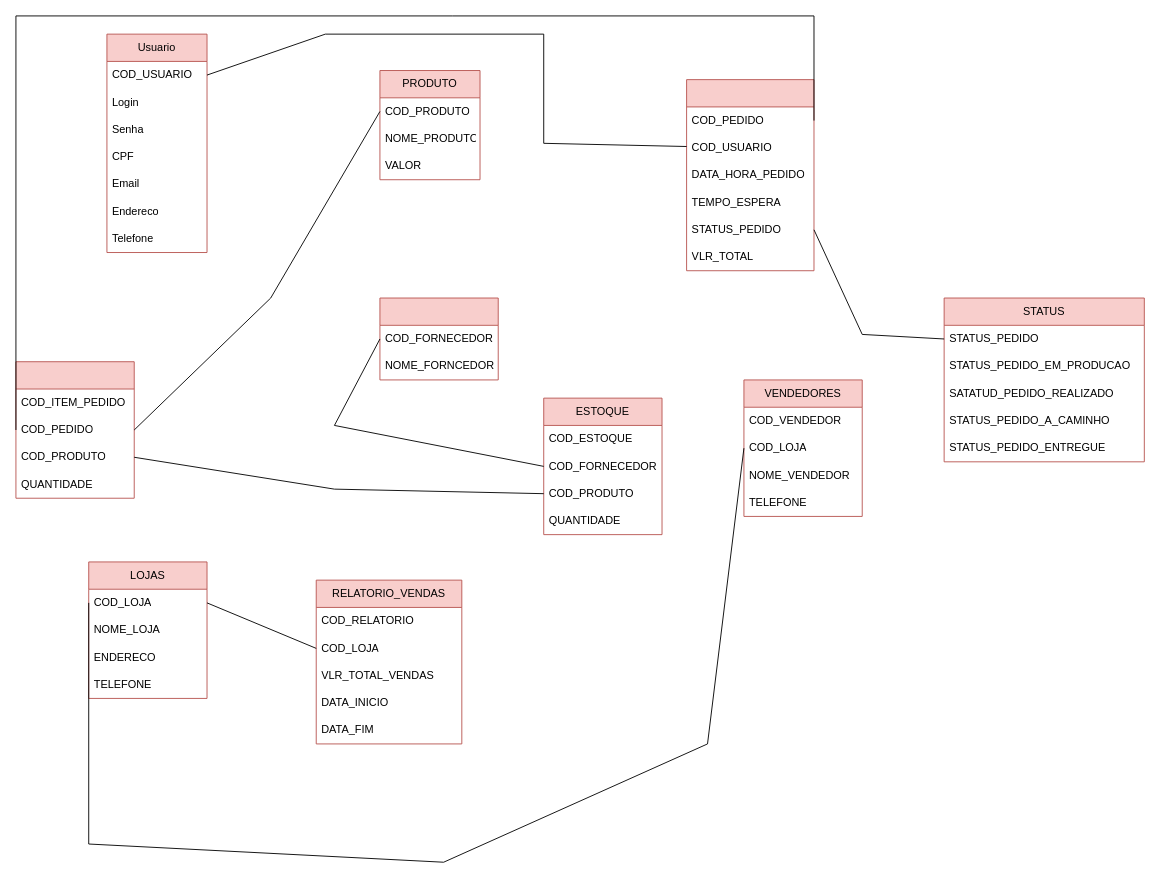
Some shapes in this 1160 by 879 pixel diagram are drawn without their labels. Here are the shapes that lost their labels. From the top down, the box of each, then its label:
(686, 79, 814, 271): PEDIDOS
(379, 297, 498, 380): FORNECEDORES
(15, 361, 134, 498): ITENS_PEDIDO
